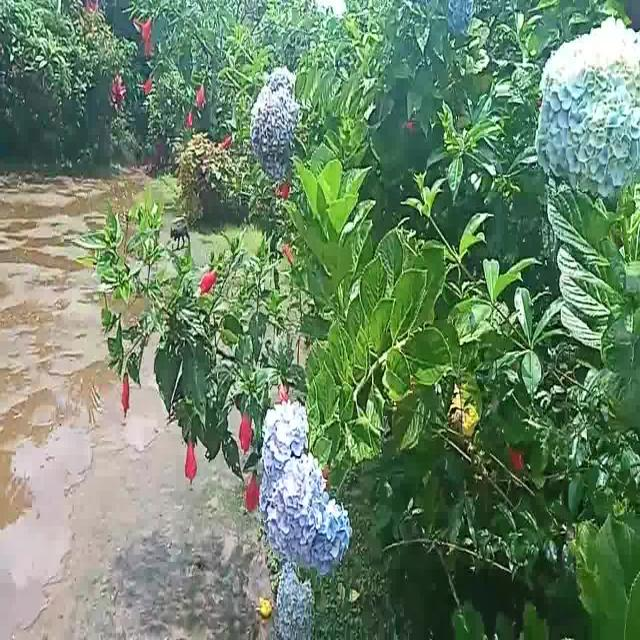Flower: (534, 17, 640, 197), (265, 404, 347, 576), (250, 67, 298, 182), (268, 578, 314, 640), (199, 261, 219, 303), (183, 436, 198, 488), (238, 406, 252, 454), (121, 371, 131, 421)
